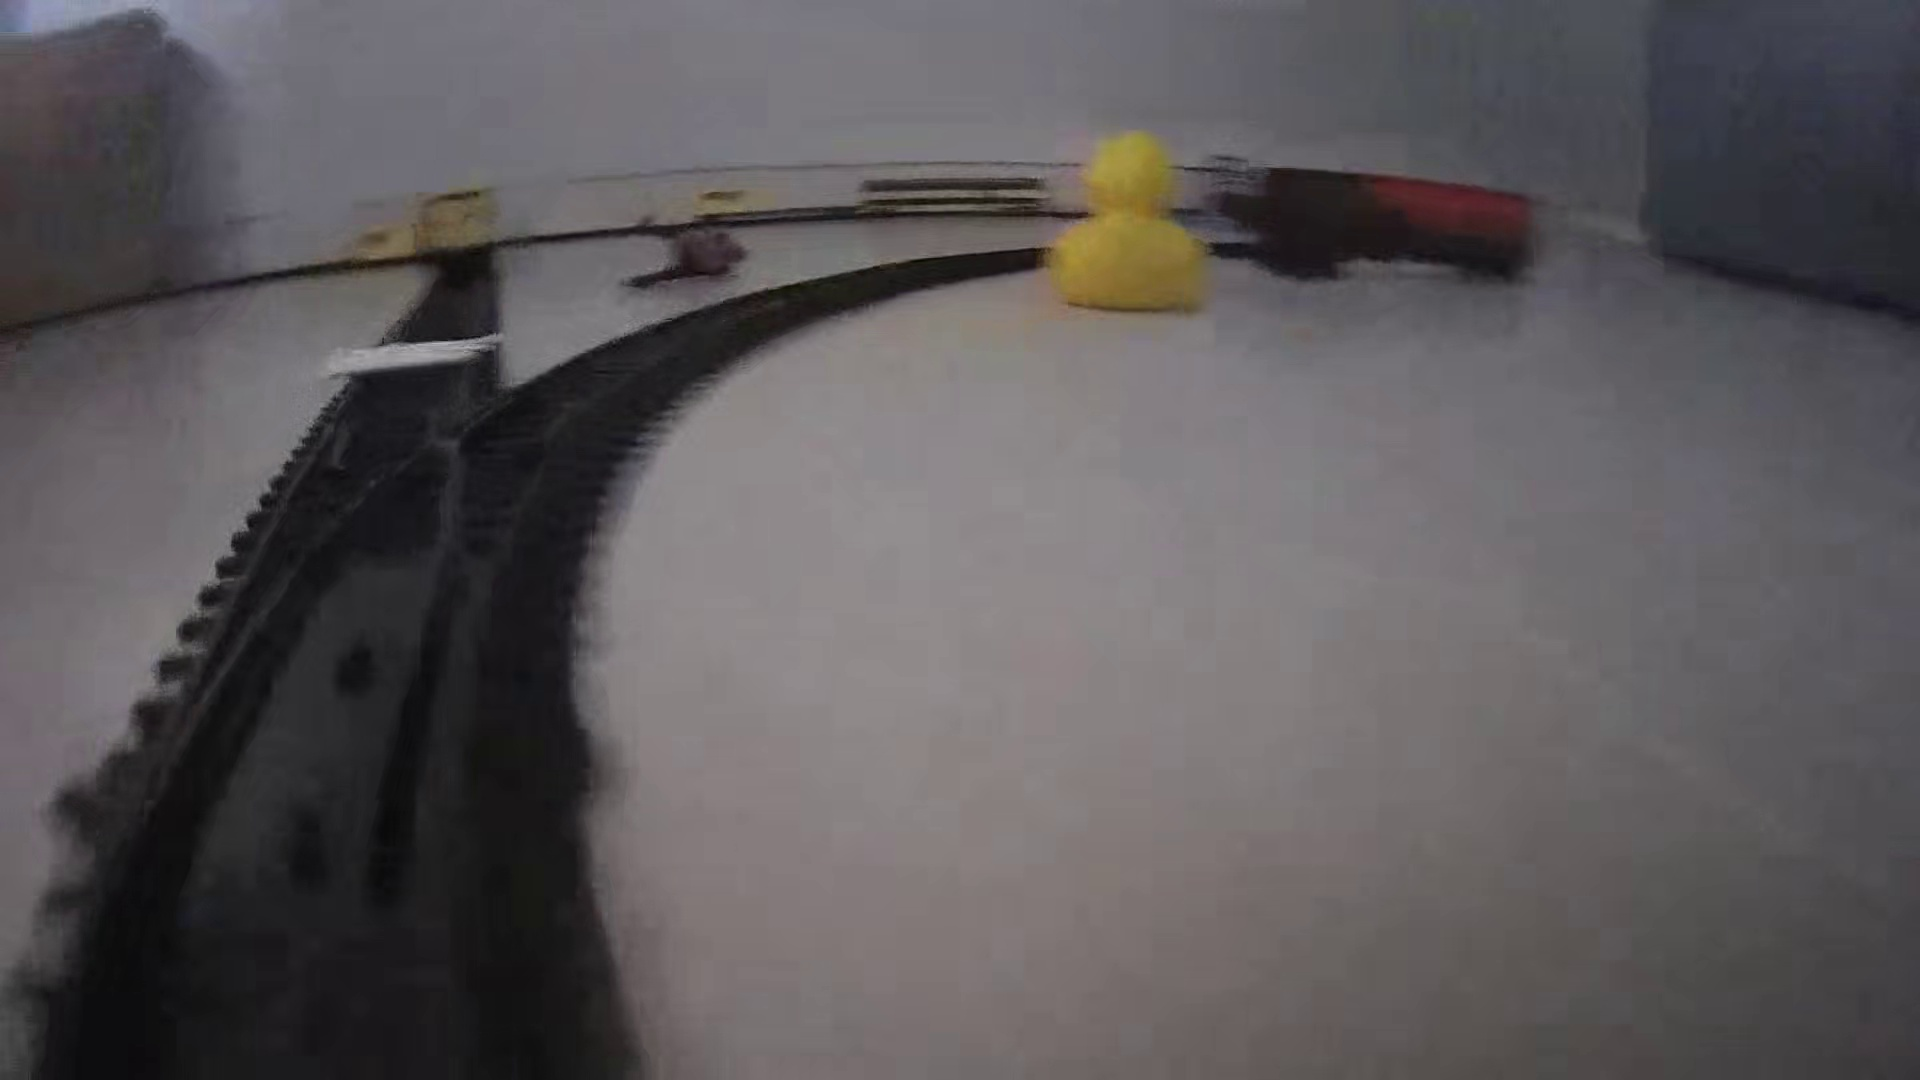people: (617, 210, 746, 297)
web: (314, 325, 505, 381)
